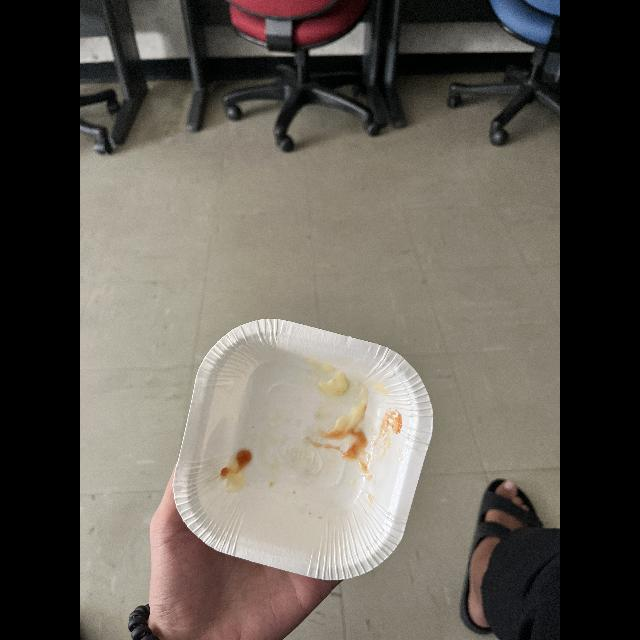cardboard_bowl: (166, 312, 437, 584)
